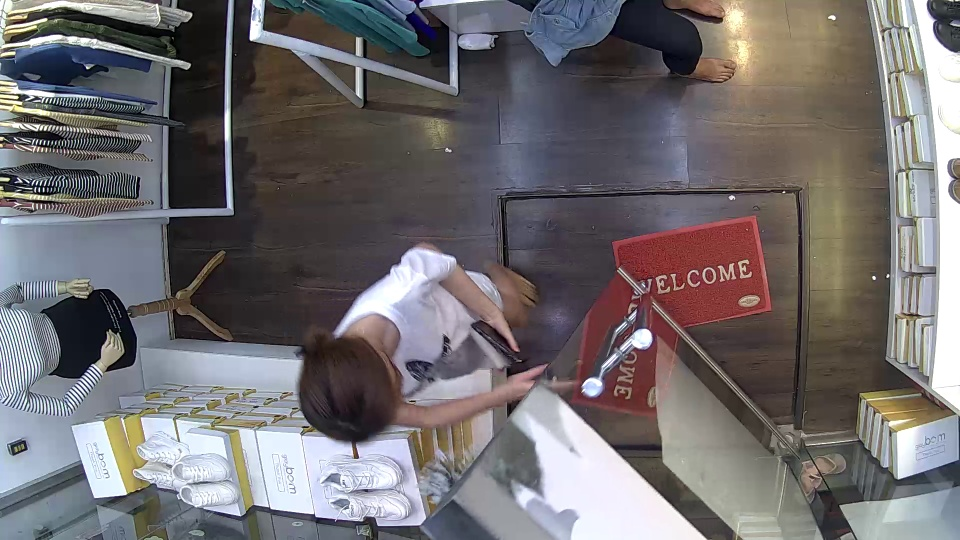topviewhead: (294, 334, 406, 442)
